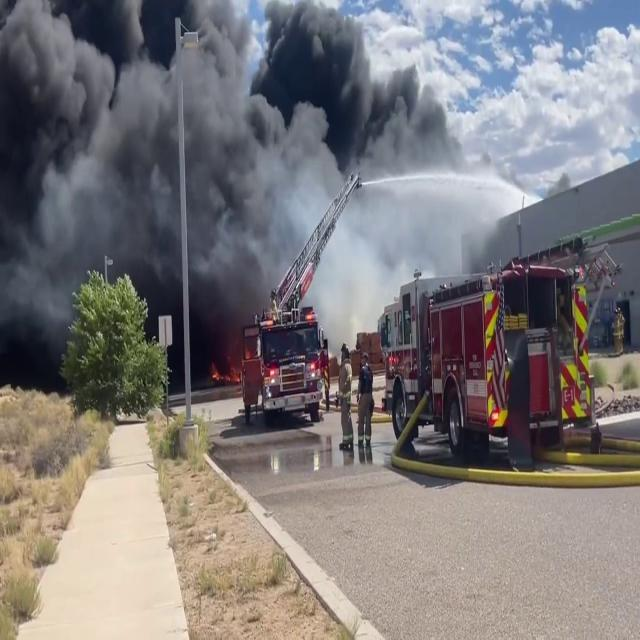Smoke: (0, 0, 462, 338)
